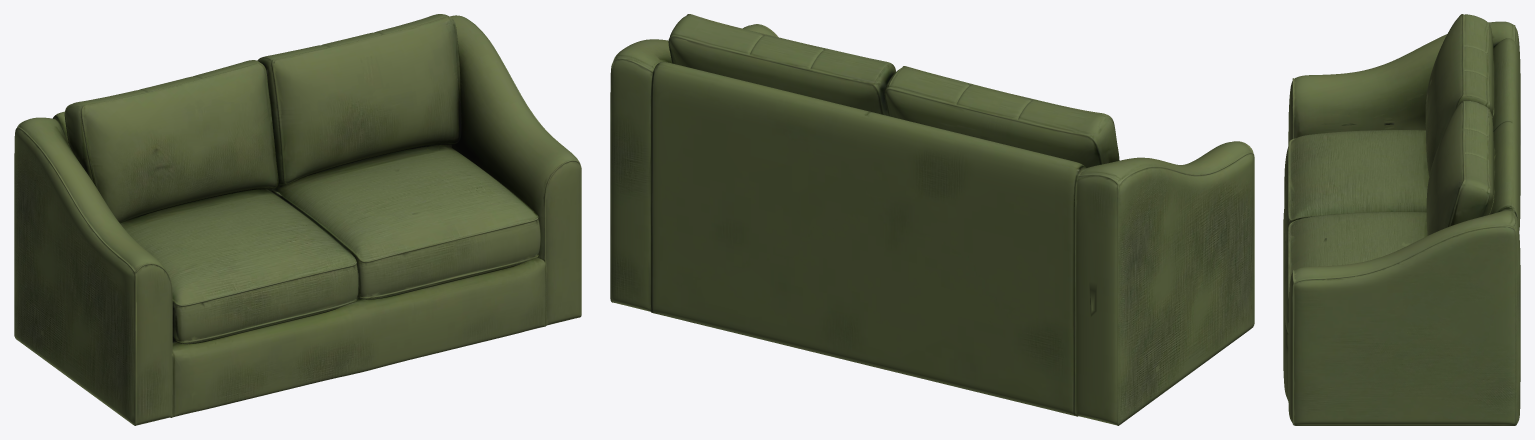
Rendered from c08-realistic.glb.
The picture shows the model from 3 angles, left to right: view 1: azimuth 30°, elevation 25°; view 2: azimuth 150°, elevation 25°; view 3: azimuth 270°, elevation 25°; orthographic projection. The views are drawn at different scales.
Parts seen in each view (by area): view 1: node_0; view 2: node_0; view 3: node_0.
Boxes of the visible parts, x1=… form: node_0: x1=14, y1=14, x2=581, y2=425; node_0: x1=610, y1=14, x2=1254, y2=425; node_0: x1=1283, y1=14, x2=1520, y2=425.
Bounding box in the file's own units: 0.9978 × 0.5141 × 0.4854.
1 material, 1 textured.
